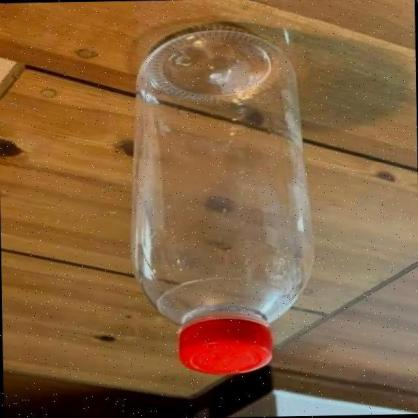bottle: (131, 26, 316, 376)
cap: (175, 315, 276, 375)
